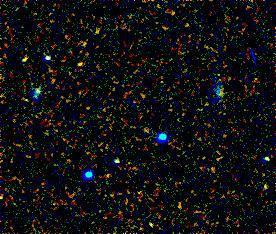star: (65, 43, 95, 73)
